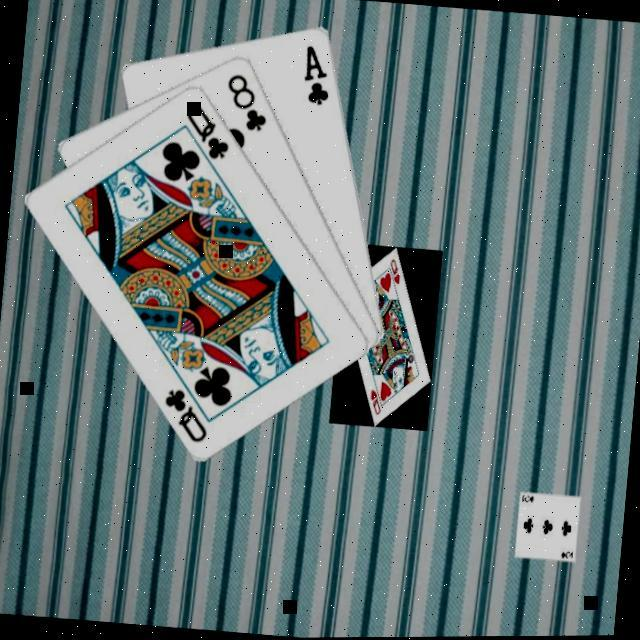8C: (220, 71, 274, 136)
AC: (298, 43, 338, 111)
QC: (179, 102, 236, 166), (158, 385, 215, 447)
